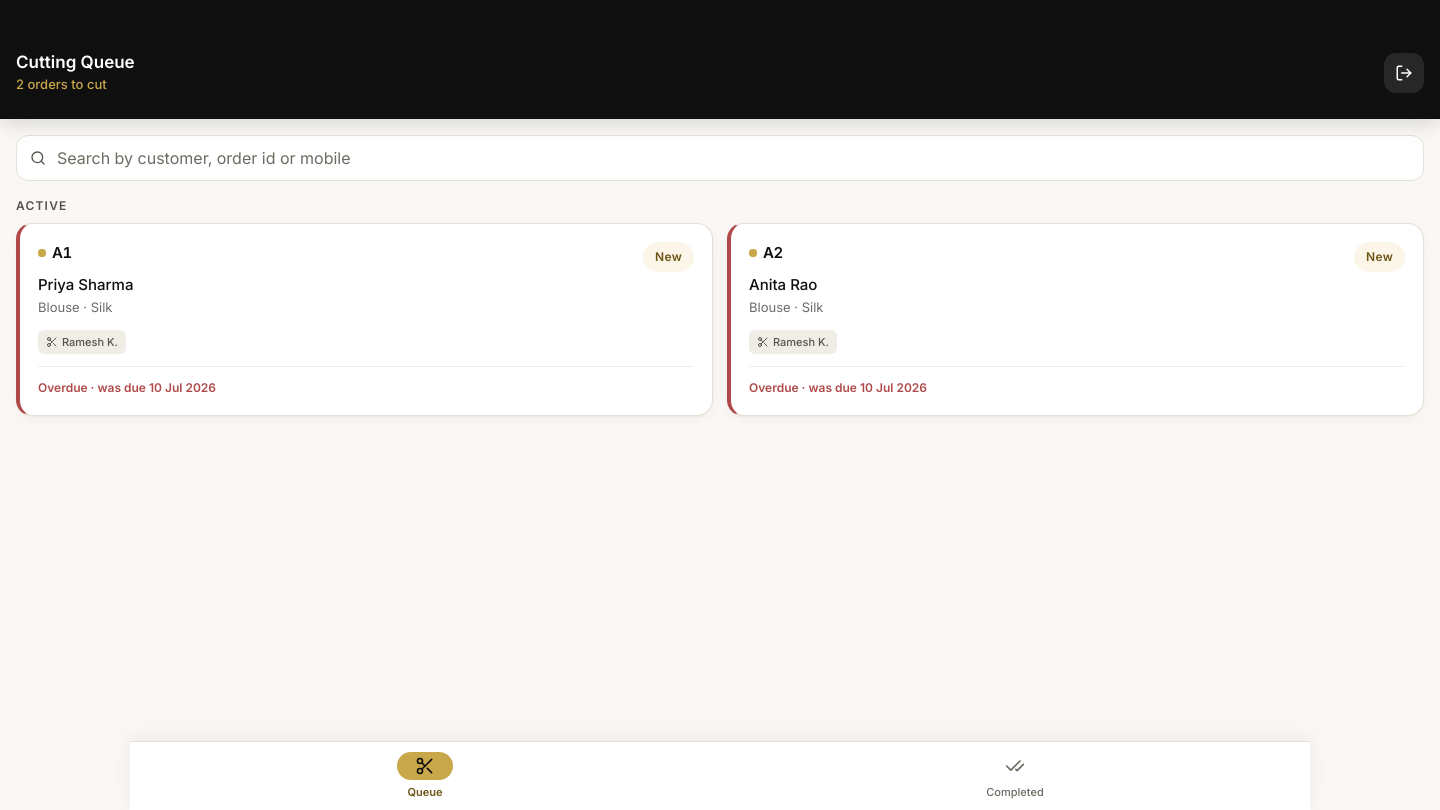
Scenario: QueueBody › filters the queue by customer search and shows a no-match state
Type "priya" into the field named "Search orders". click: (720, 158)
box: left=16, top=135, right=1424, bottom=181
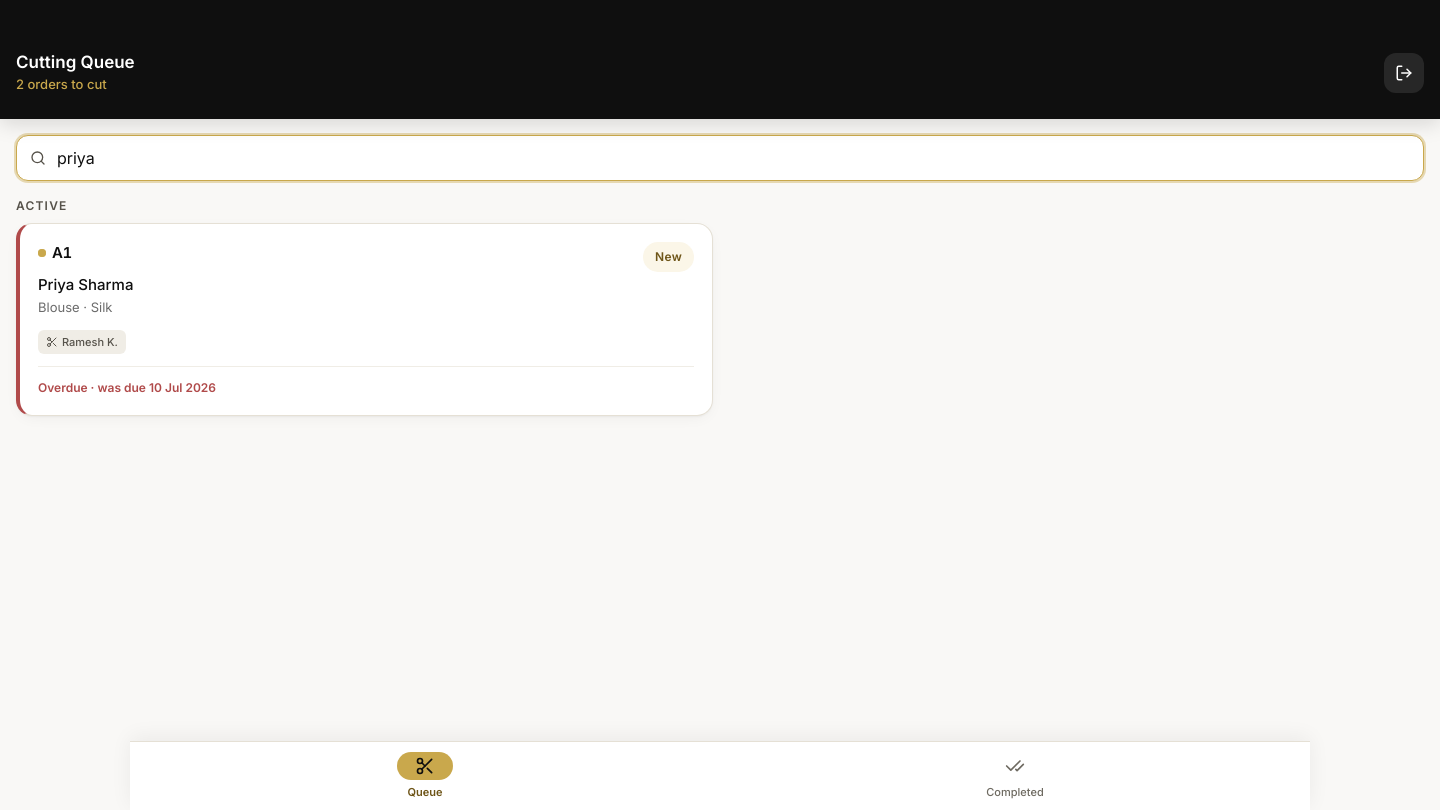
expect the text "A1" is shown: met, box left=52, top=242, right=72, bottom=264
expect the button "A2" is gone: met
Replace the text in the field named "Search orders" with "nobody". click: (720, 158)
box: left=16, top=135, right=1424, bottom=181
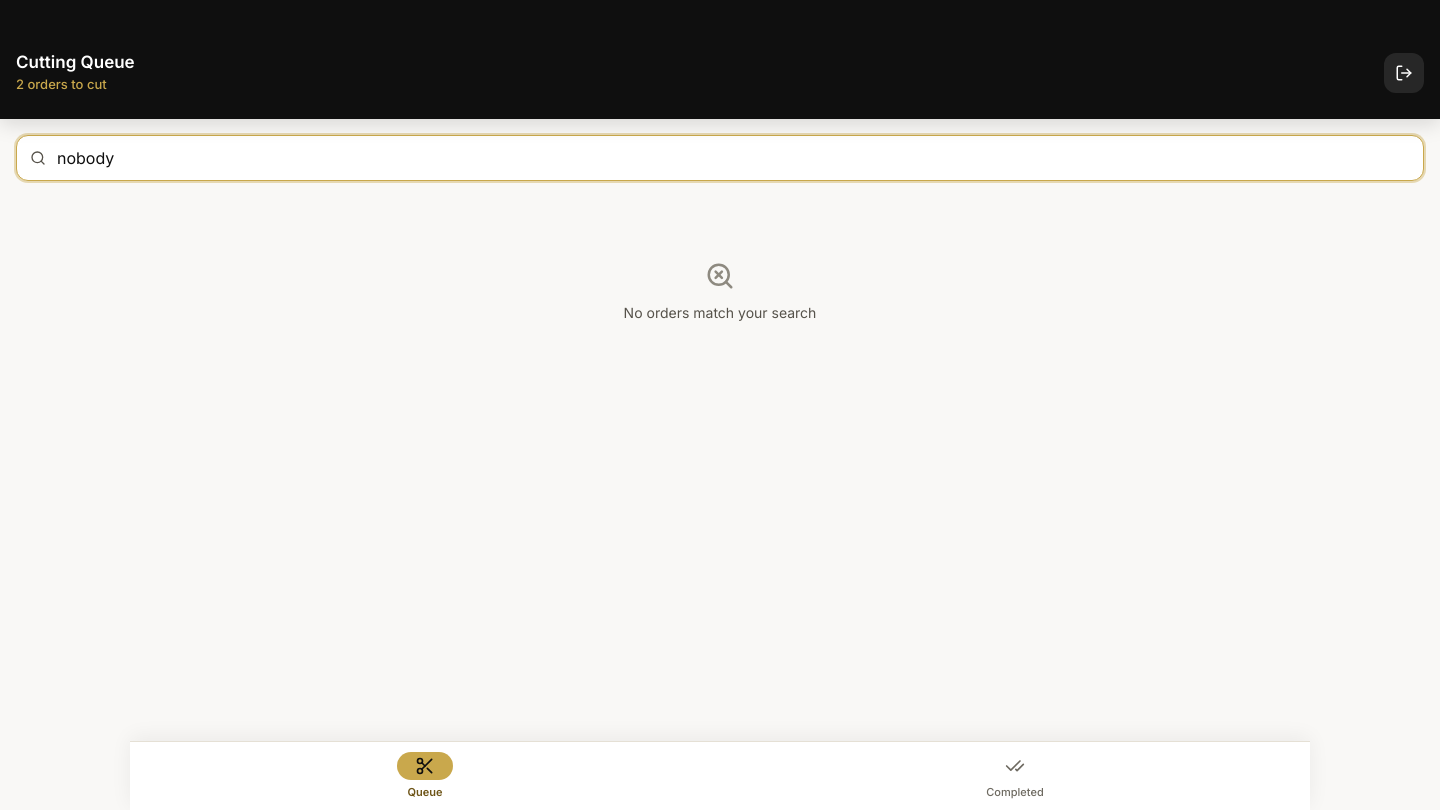
expect the text "No orders match your search" is shown: met, box left=624, top=304, right=816, bottom=321
